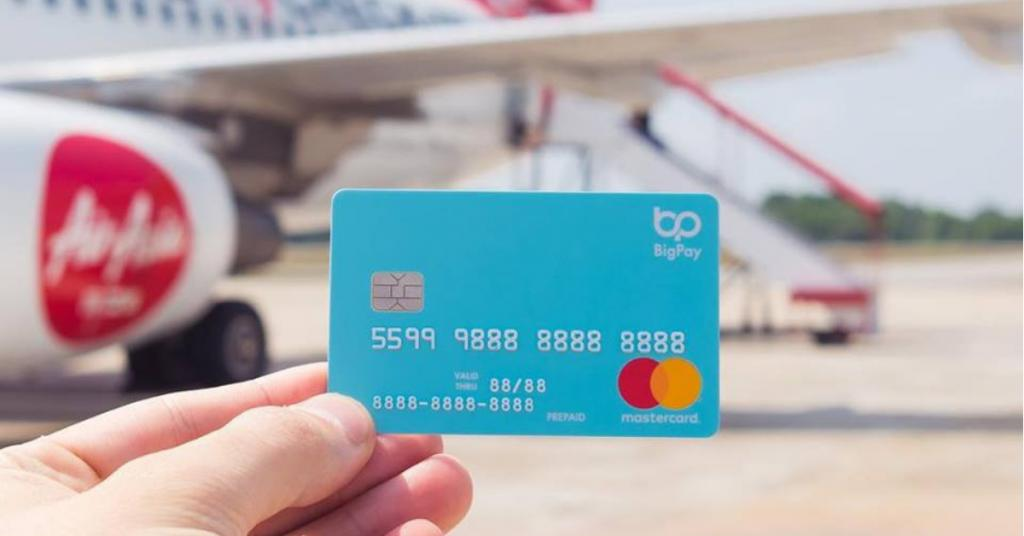Credit_card: (329, 189, 718, 437)
